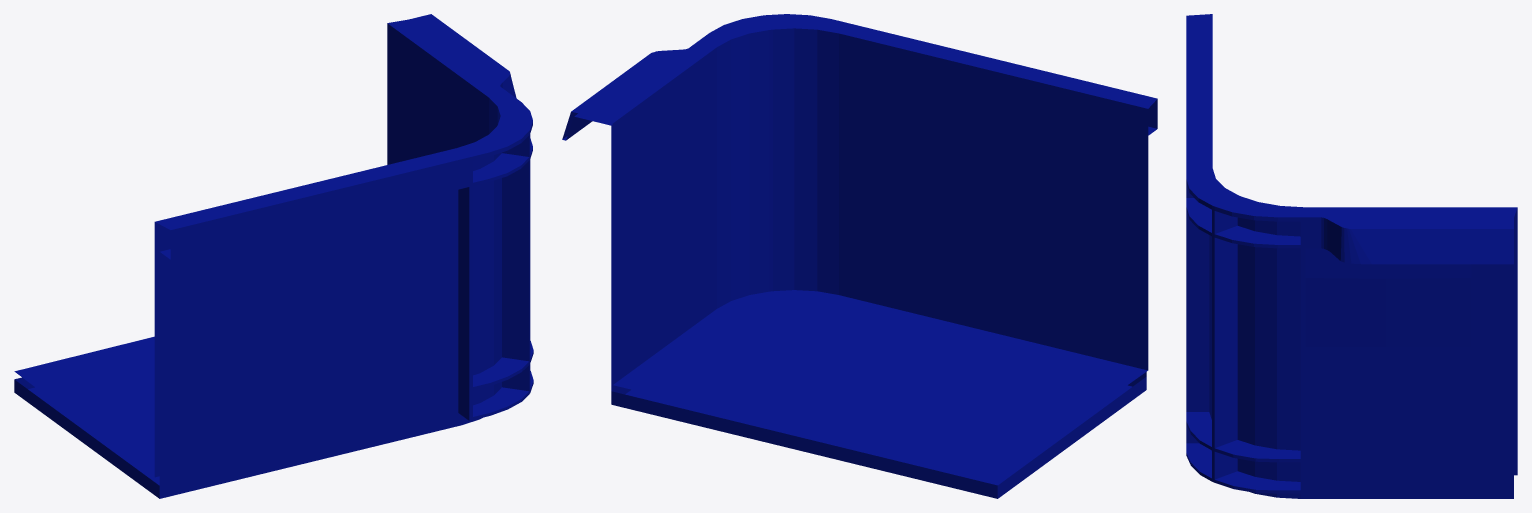
File: bluebox.glb
3 views of the same model, side by side, from view 1: azimuth 30°, elevation 25°; view 2: azimuth 150°, elevation 25°; view 3: azimuth 270°, elevation 25° (orthographic). The views are drawn at different scales.
Visible parts, largest first — view 1: AoBox; view 2: AoBox; view 3: AoBox.
Part boxes in pixels (bbox=[...]): AoBox: bbox=[14, 14, 533, 498]; AoBox: bbox=[562, 14, 1157, 498]; AoBox: bbox=[1186, 14, 1517, 498].
Size of the model in its own units: 1.7 by 1.05 by 1.09.
